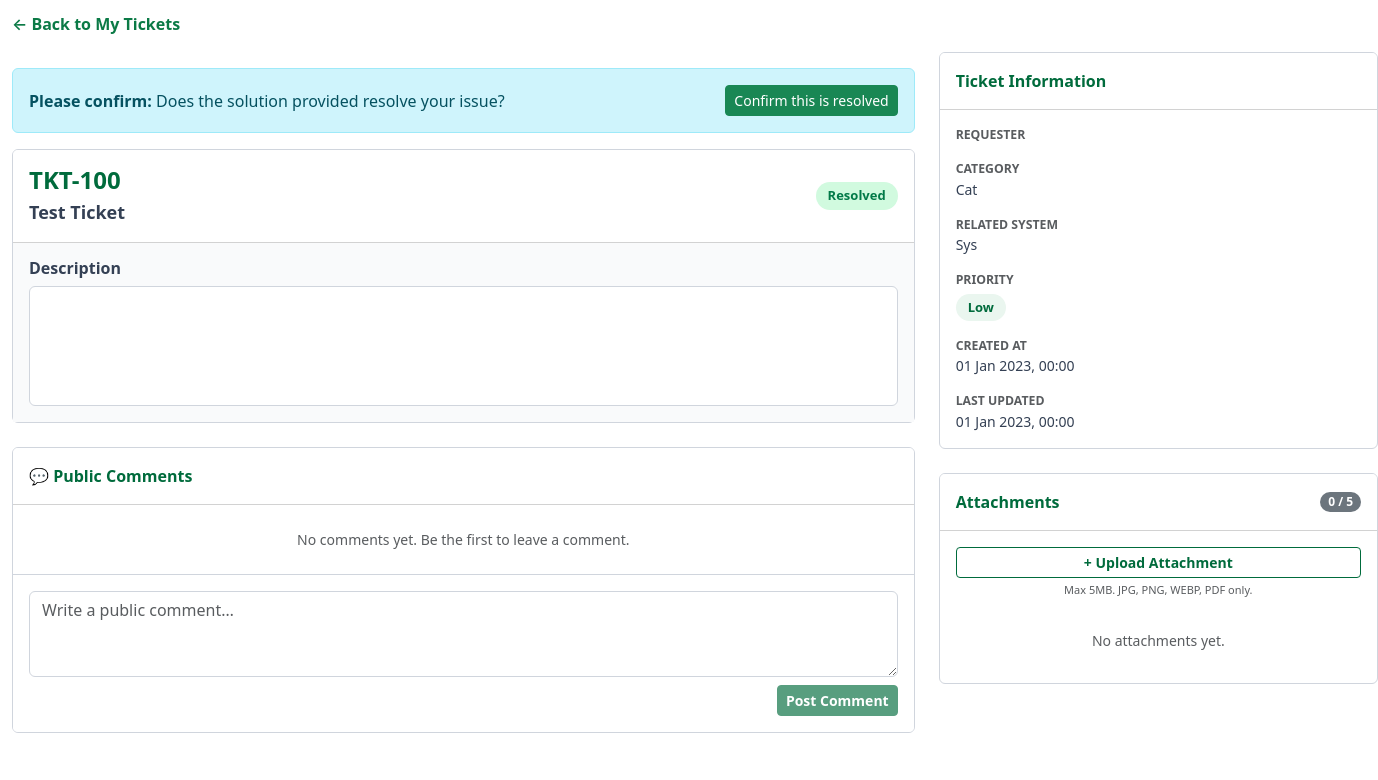
TicketWorkflow Component › RequesterTicketDetail › disappears and shows message after successful confirm
Click the button "Confirm this is resolved" at point(811, 100), box top-left (725, 85), bottom-right (898, 116)
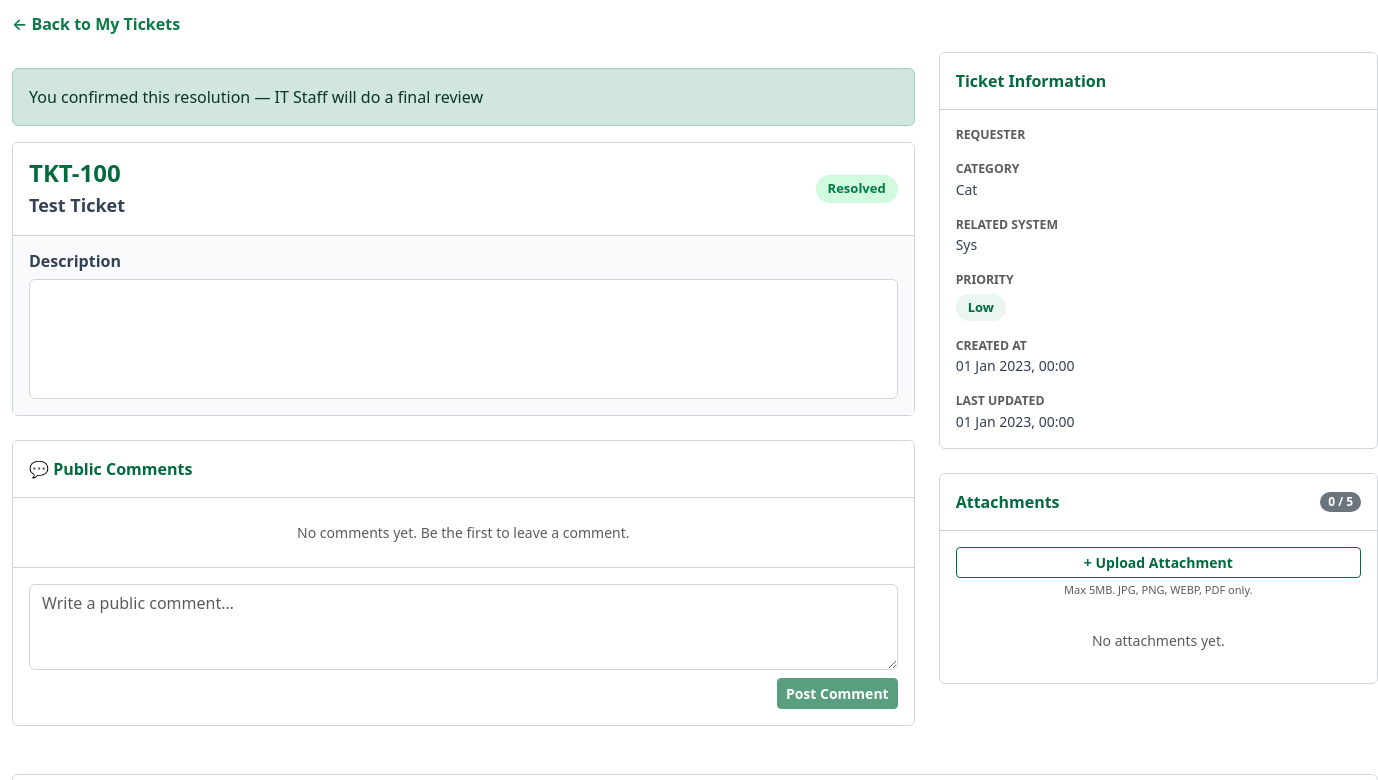
Check: the text "You confirmed this resolution — IT Staff will do a final review" is shown, box top-left (12, 68), bottom-right (915, 126)
Check: the button "Confirm this is resolved" is gone
